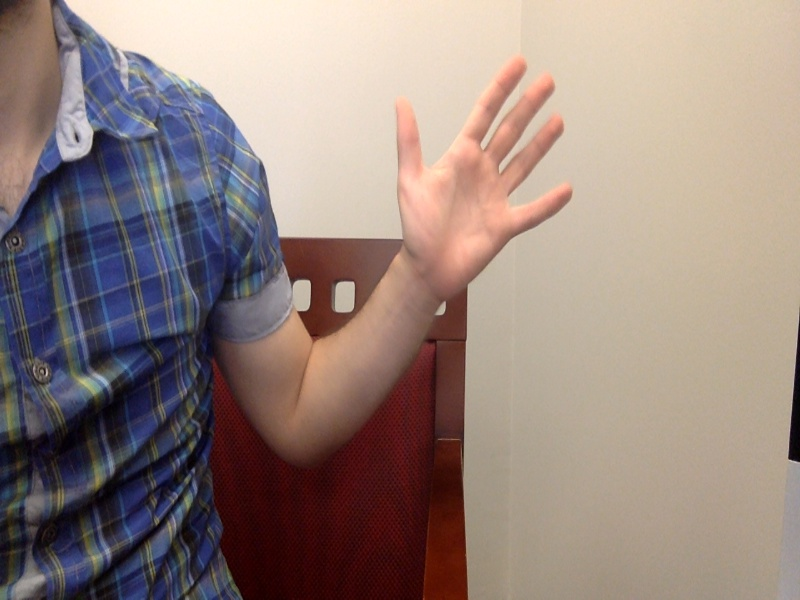5-hand: (392, 58, 577, 293)
